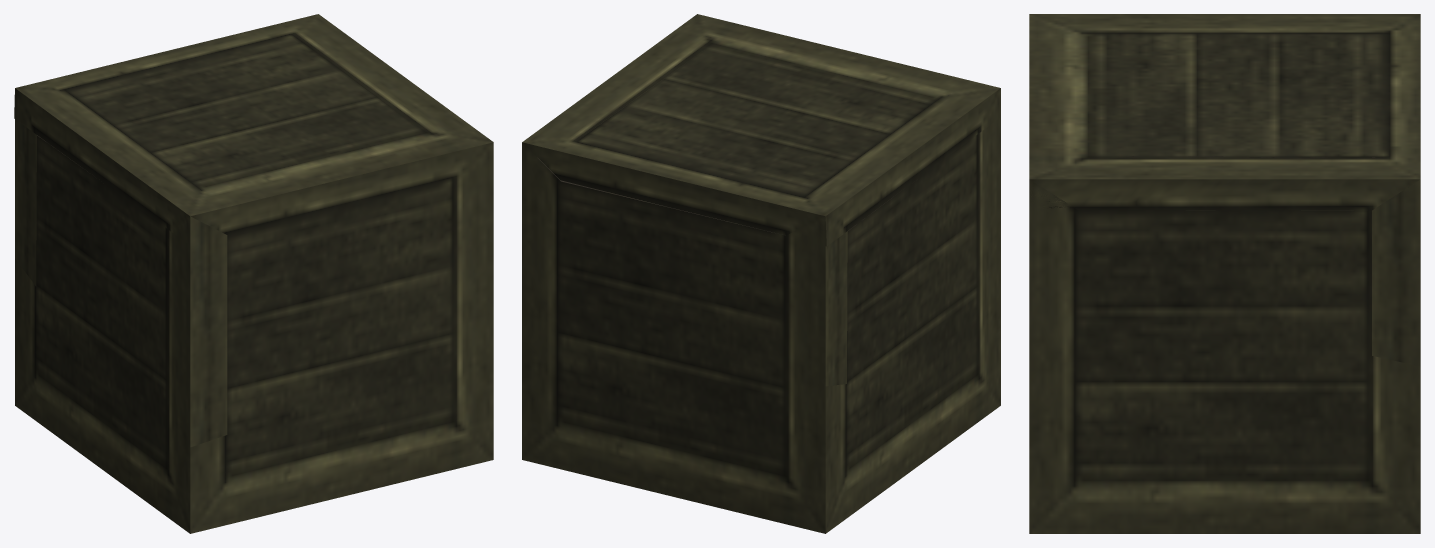
Rendered from WoodenBox03_Fracture_001.FBX.
The picture shows the model from 3 angles, left to right: view 1: azimuth 30°, elevation 25°; view 2: azimuth 150°, elevation 25°; view 3: azimuth 270°, elevation 25°; orthographic projection. The views are drawn at different scales.
Visible parts, largest first — view 1: WoodenBox03_Fracture_004, WoodenBox03_Fracture_009, WoodenBox03_Fracture_002, WoodenBox03_Fracture_001, WoodenBox03_Fracture_008, WoodenBox03_Fracture_005, WoodenBox03_Fracture_003; view 2: WoodenBox03_Fracture_001, WoodenBox03_Fracture_003, WoodenBox03_Fracture_009, WoodenBox03_Fracture_008, WoodenBox03_Fracture_002; view 3: WoodenBox03_Fracture_007, WoodenBox03_Fracture_009, WoodenBox03_Fracture_006, WoodenBox03_Fracture_008, WoodenBox03_Fracture_001, WoodenBox03_Fracture_004, WoodenBox03_Fracture_003.
Boxes of the visible parts, <box> form: WoodenBox03_Fracture_004: <box>227,143,493,473</box>; WoodenBox03_Fracture_009: <box>69,34,493,234</box>; WoodenBox03_Fracture_002: <box>36,135,227,463</box>; WoodenBox03_Fracture_001: <box>15,258,493,533</box>; WoodenBox03_Fracture_008: <box>14,14,493,244</box>; WoodenBox03_Fracture_005: <box>227,179,453,473</box>; WoodenBox03_Fracture_003: <box>15,119,36,286</box>; WoodenBox03_Fracture_001: <box>522,286,1000,533</box>; WoodenBox03_Fracture_003: <box>522,142,847,392</box>; WoodenBox03_Fracture_009: <box>577,14,999,195</box>; WoodenBox03_Fracture_008: <box>522,14,1000,246</box>; WoodenBox03_Fracture_002: <box>847,117,1000,383</box>; WoodenBox03_Fracture_007: <box>1078,210,1371,476</box>; WoodenBox03_Fracture_009: <box>1029,14,1388,179</box>; WoodenBox03_Fracture_006: <box>1077,210,1371,478</box>; WoodenBox03_Fracture_008: <box>1029,14,1420,210</box>; WoodenBox03_Fracture_001: <box>1029,354,1420,533</box>; WoodenBox03_Fracture_004: <box>1029,179,1078,389</box>; WoodenBox03_Fracture_003: <box>1372,179,1420,366</box>.
Size of the model in its own units: 100 by 100 by 100.
Materials: 1 (1 with a texture image).
